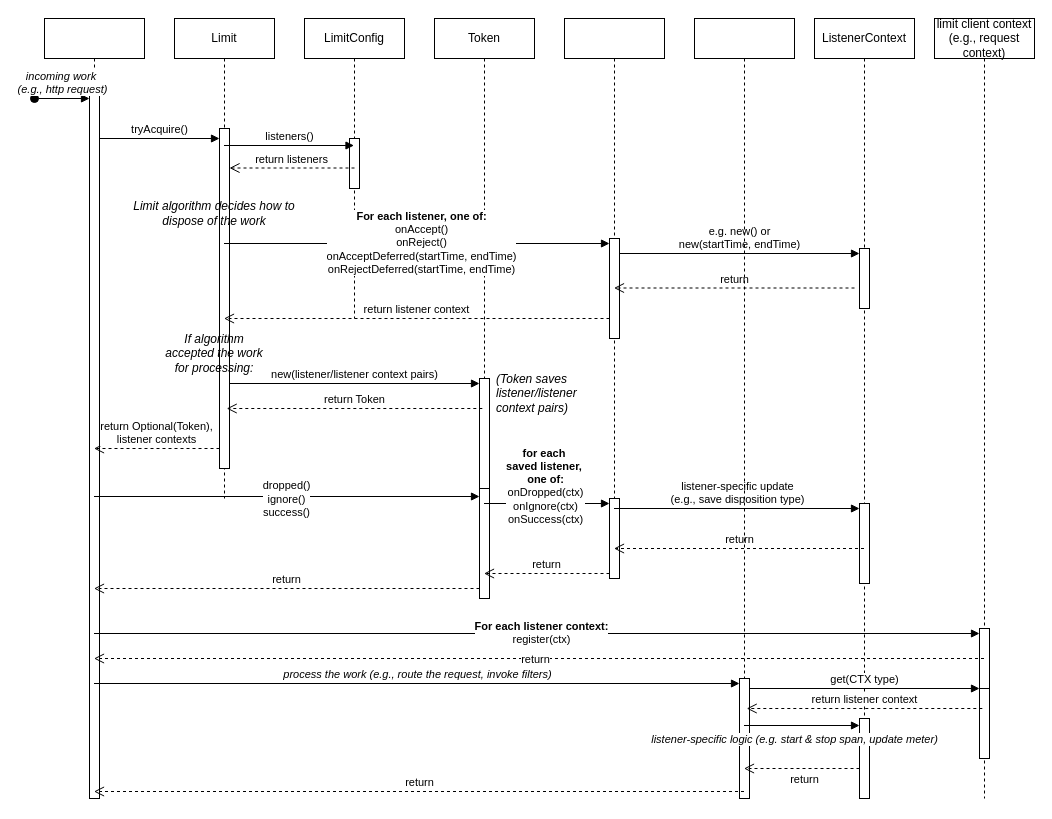
This 1052x819 diagram has some shape labels left out. The shapes that lost their labels are listed below. From the top down, each one's box as (x1, y1, x2, y2) in pixels, then its label:
(564, 18, 664, 578): Listener
(44, 18, 144, 798): limit client (e.g., http request processing)
(694, 18, 794, 798): limit client processing (e.g. filter)
